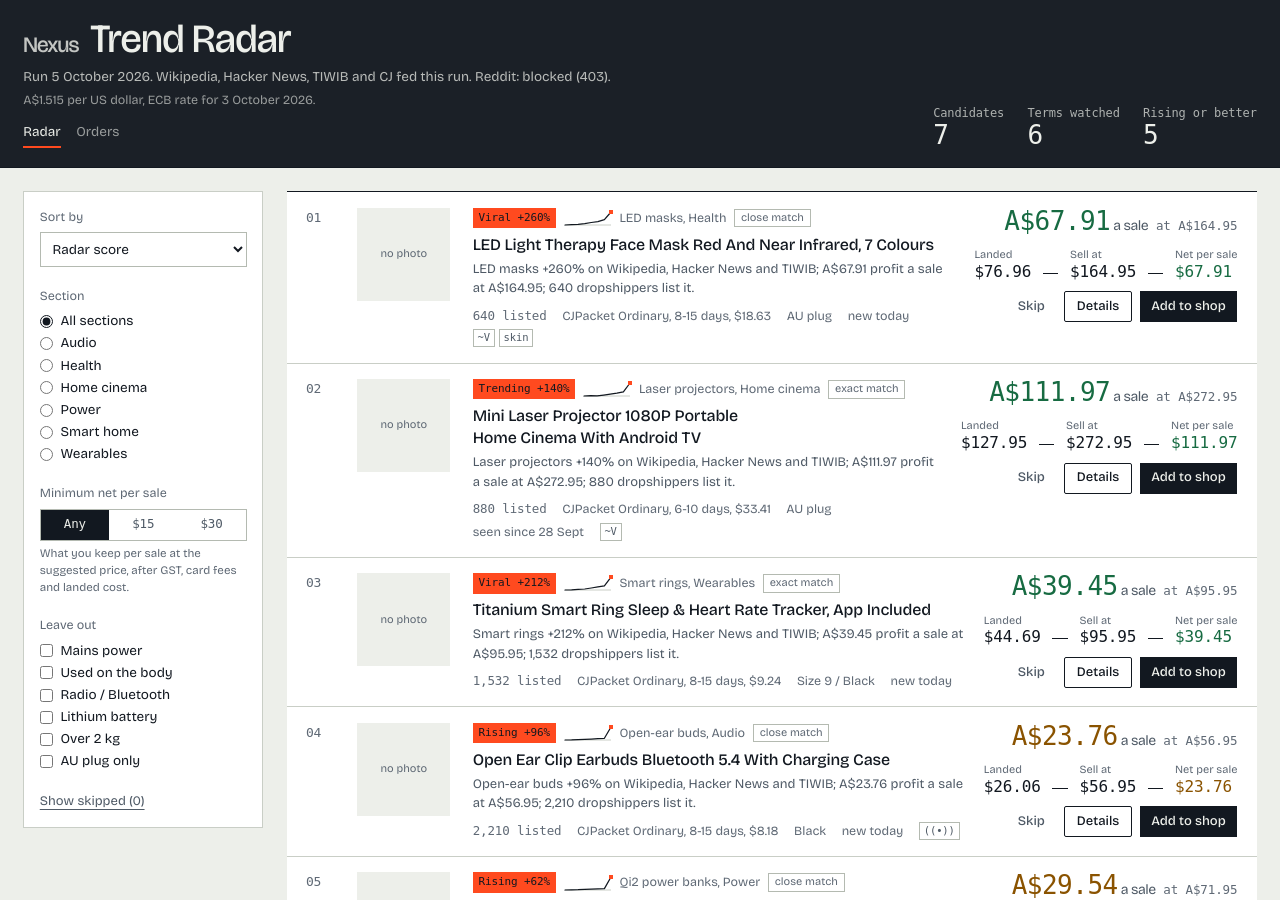
Scenario: Radar page › expanding a candidate shows the money table and freight lines
What coordinates should you click on to do the following:
click the button "Details" below "$76.96"
I would click on:
 (1098, 307)
Its box is 1064,291 -> 1132,322.
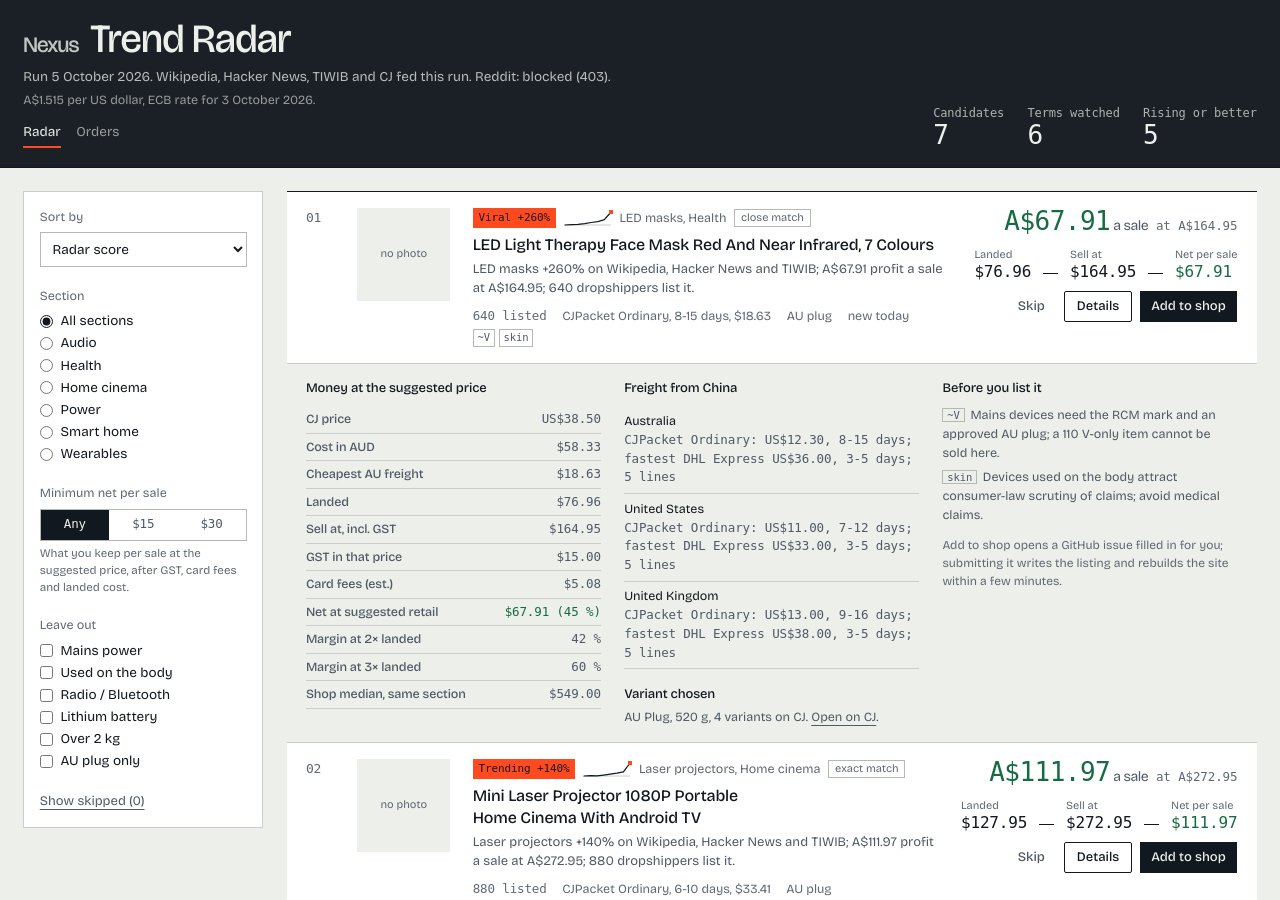
Expected: the text "CJPacket Ordinary, 8-15 days, $18.63" is shown, 562,307 -> 771,326
Expected: the text "Net at suggested retail" is shown, 306,603 -> 438,622
